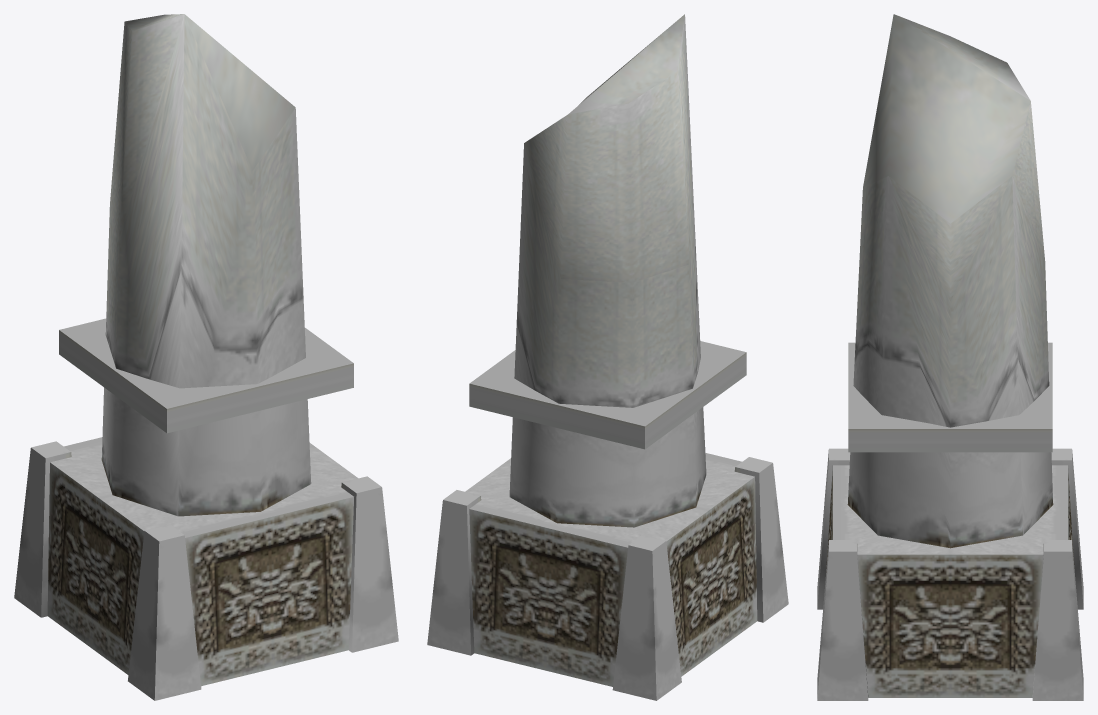
Rendered from general_obj_bigtower05_lod_01.fbx.
3 renders of one model, left to right at view 1: azimuth 30°, elevation 25°; view 2: azimuth 150°, elevation 25°; view 3: azimuth 270°, elevation 25°, orthographic. The views are drawn at different scales.
Parts seen in each view (by area): view 1: Sphere01; view 2: Sphere01; view 3: Sphere01.
Boxes of the visible parts, left/top/right/bottom form: Sphere01: left=14, top=14, right=398, bottom=700; Sphere01: left=427, top=14, right=788, bottom=700; Sphere01: left=817, top=14, right=1083, bottom=700.
Bounding box in the file's own units: 5.22 × 13.09 × 5.21.
